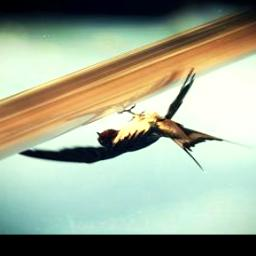Swallow: (14, 68, 256, 173)
